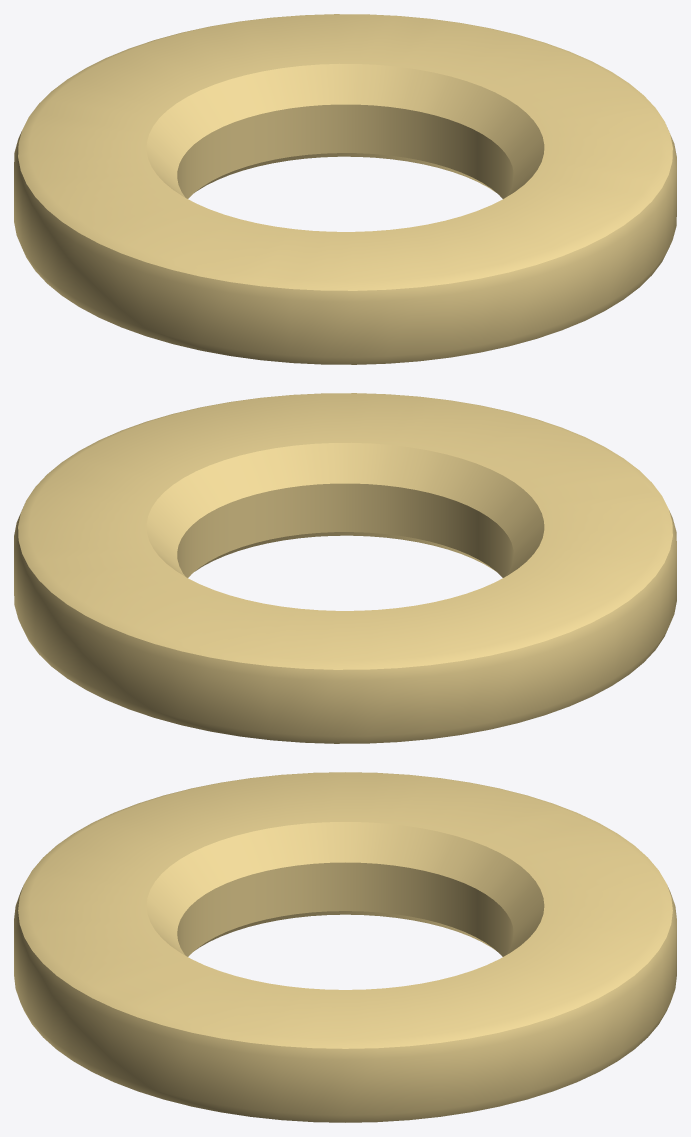
File: os41_washer_13_lod0.glb
3 renders of one model, top to bottom at view 1: azimuth 30°, elevation 25°; view 2: azimuth 150°, elevation 25°; view 3: azimuth 270°, elevation 25°, orthographic.
Parts seen in each view (by area): view 1: os41_washer_13; view 2: os41_washer_13; view 3: os41_washer_13.
Part boxes in pixels (x1,y1,x2,y2): os41_washer_13: (14,14,676,364); os41_washer_13: (14,393,676,743); os41_washer_13: (14,772,676,1122).
Bounding box in the file's own units: 0.013 × 0.0018 × 0.013.
